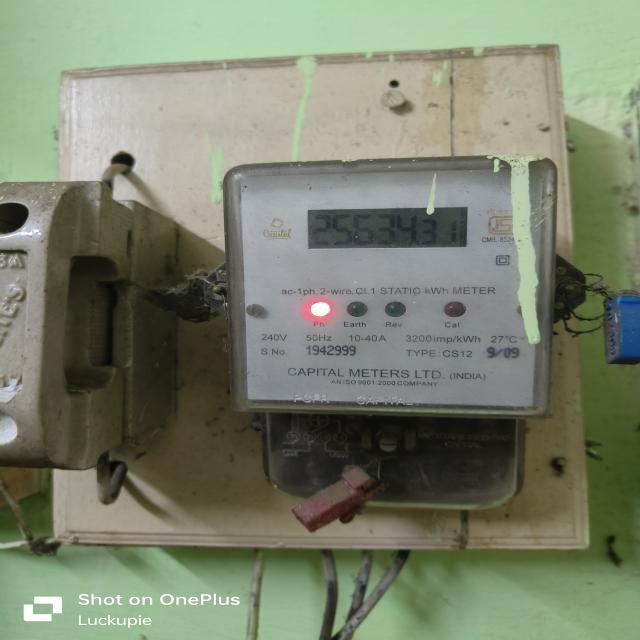display: (292, 203, 479, 254)
